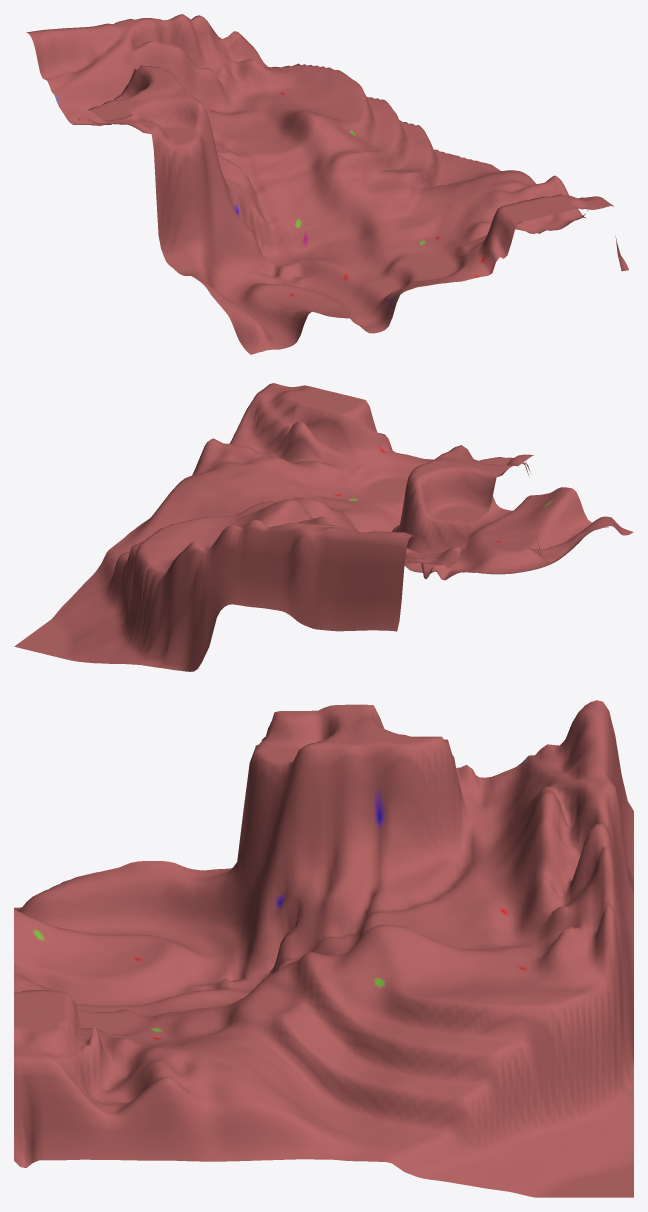
Rendered from terreno_se.glb.
The picture shows the model from 3 angles, top to bottom: view 1: azimuth 30°, elevation 25°; view 2: azimuth 150°, elevation 25°; view 3: azimuth 270°, elevation 25°; orthographic projection. The views are drawn at different scales.
Parts seen in each view (by area): view 1: terreno_se; view 2: terreno_se; view 3: terreno_se.
Part boxes in pixels (x1=…): terreno_se: x1=26, y1=14, x2=628, y2=354; terreno_se: x1=14, y1=383, x2=633, y2=671; terreno_se: x1=14, y1=700, x2=633, y2=1197.
Bounding box in the file's own units: 228 × 110 × 245.
